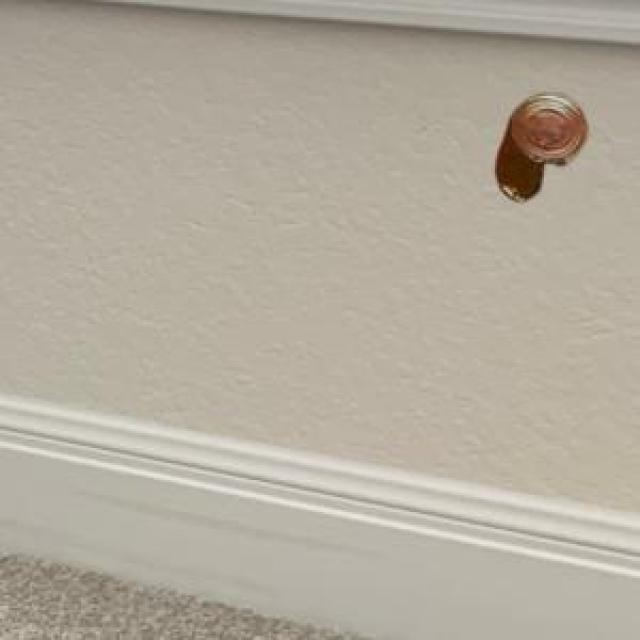Can: (494, 93, 583, 197)
